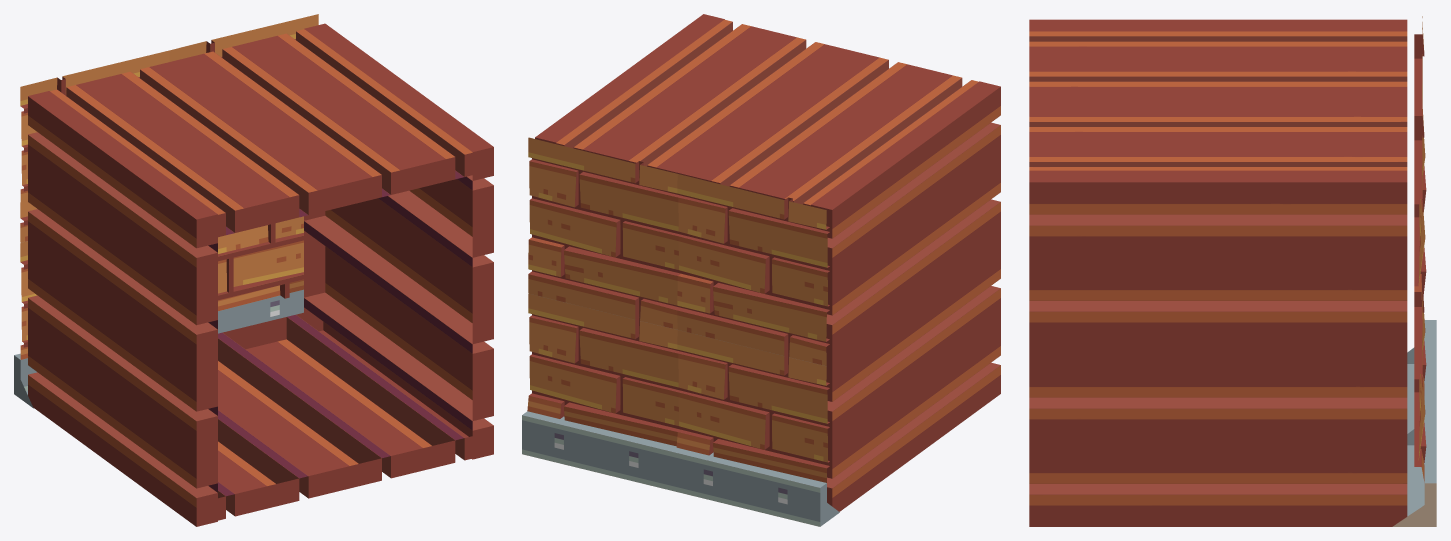
The model's file is BottomKayu.fbx.
3 views of the same model, side by side, from view 1: azimuth 30°, elevation 25°; view 2: azimuth 150°, elevation 25°; view 3: azimuth 270°, elevation 25° (orthographic). The views are drawn at different scales.
Parts seen in each view (by area): view 1: BottomKayu; view 2: BottomKayu; view 3: BottomKayu.
Boxes of the visible parts, x1=… form: BottomKayu: x1=14, y1=14, x2=493, y2=526; BottomKayu: x1=522, y1=14, x2=1000, y2=526; BottomKayu: x1=1029, y1=16, x2=1436, y2=526.
Size of the model in its own units: 94.81 by 94.81 by 100.
